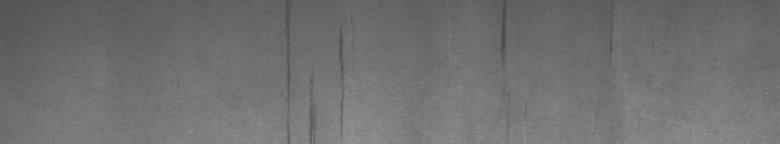ka: (282, 4, 348, 136)
